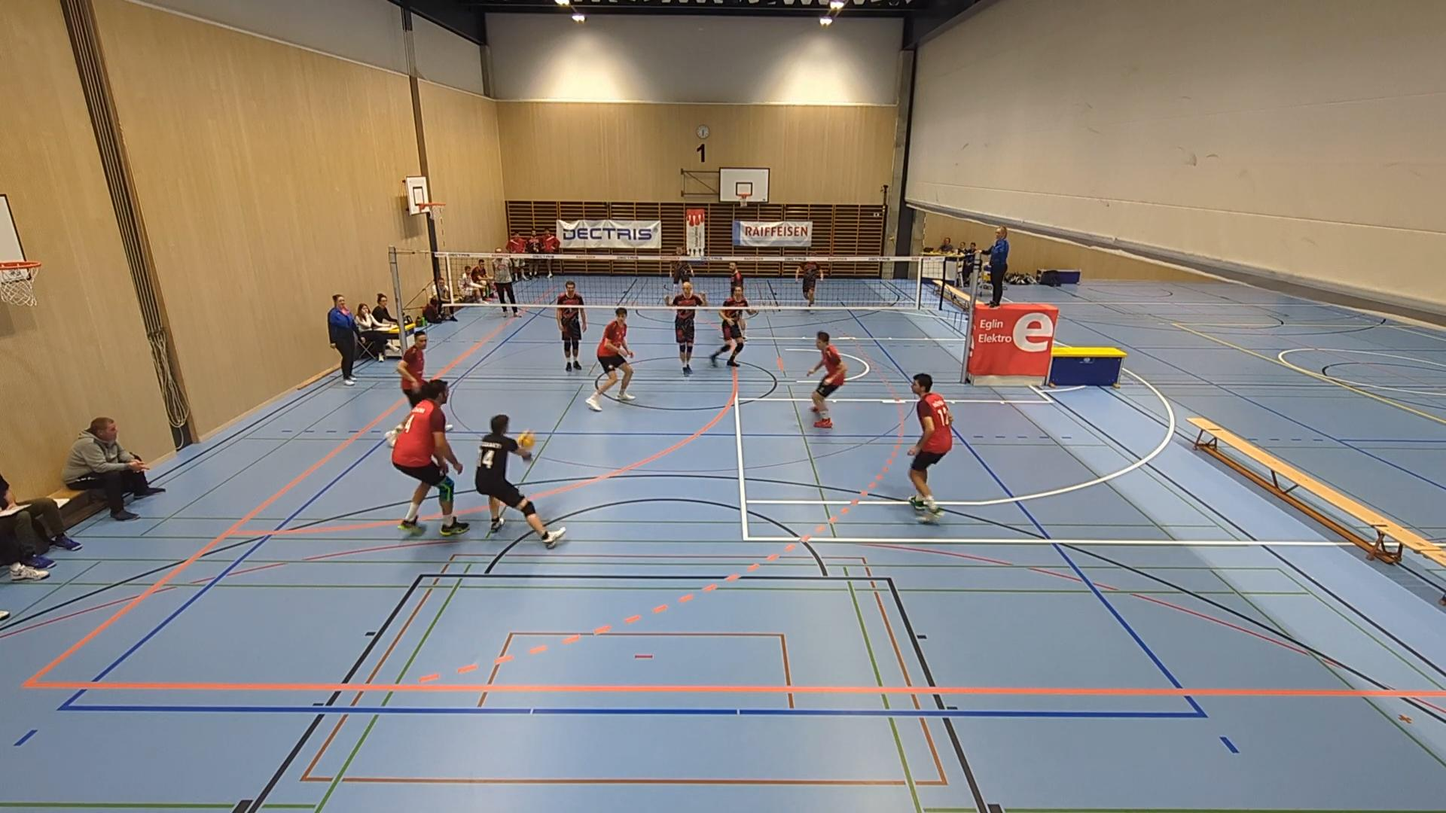Player: (392, 380, 468, 535), (908, 373, 951, 521), (586, 307, 634, 410), (665, 282, 706, 376), (808, 331, 847, 428), (710, 285, 749, 366), (557, 281, 586, 370), (395, 330, 428, 406), (795, 261, 822, 307), (670, 247, 692, 285), (729, 262, 743, 289)
Receive: (471, 413, 570, 549)
ball: (516, 428, 537, 449)
